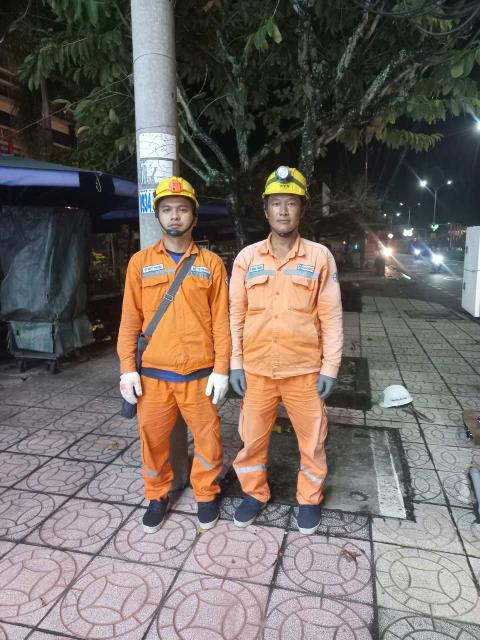gloves: (116, 366, 147, 420), (225, 351, 251, 394), (308, 370, 339, 402), (205, 361, 228, 403)
helmet: (254, 162, 316, 202), (148, 163, 197, 201)
shoes: (139, 486, 172, 538), (228, 488, 272, 527), (288, 494, 327, 538), (193, 491, 226, 532)
